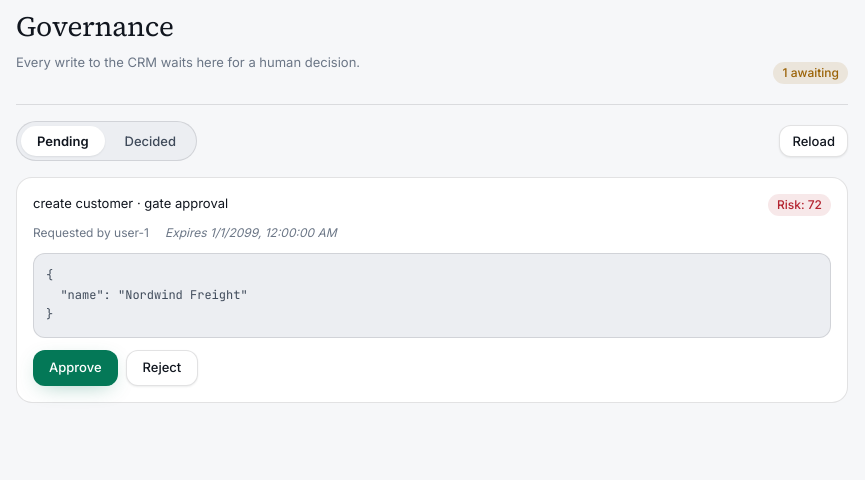
Test case: ApprovalQueue › a second decision is reported as a conflict, and the stale row is re-read
Click the button "Approve": {"x": 75, "y": 368} [33,350,118,386]
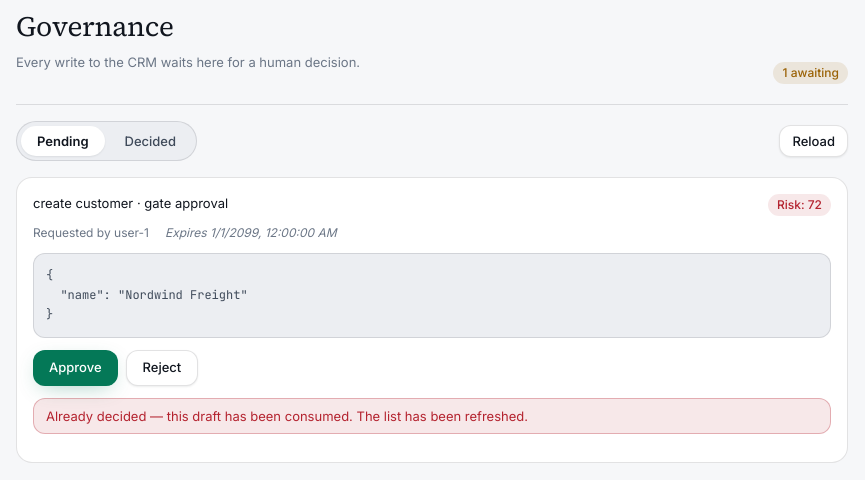
expect the message shows "Already decided": met, box [46,408,528,424]
